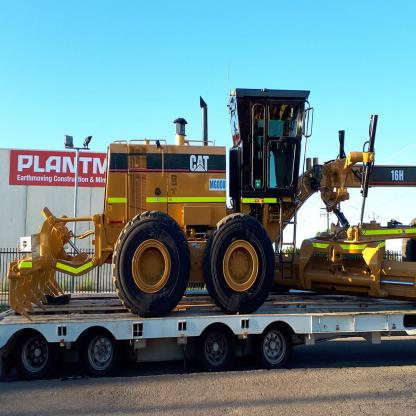bull_dozer/loader/grader: (16, 79, 412, 321)
